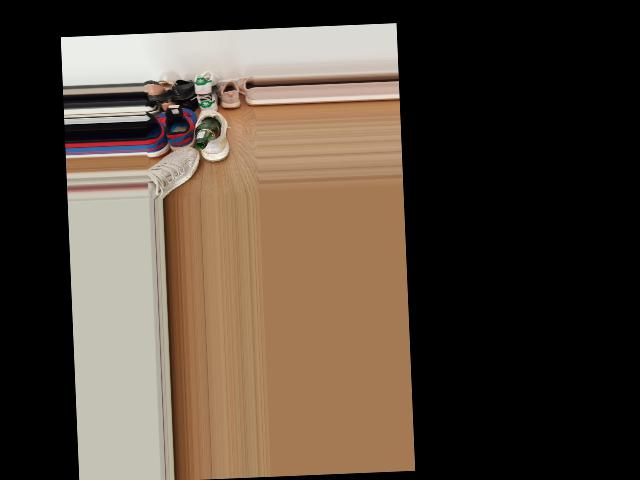beer: (193, 117, 221, 149)
